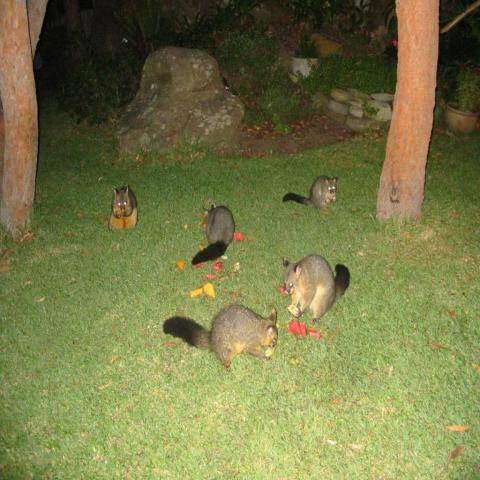small_animal: (162, 301, 279, 372), (280, 252, 352, 324), (190, 202, 237, 268), (282, 170, 341, 213), (109, 183, 140, 231)
